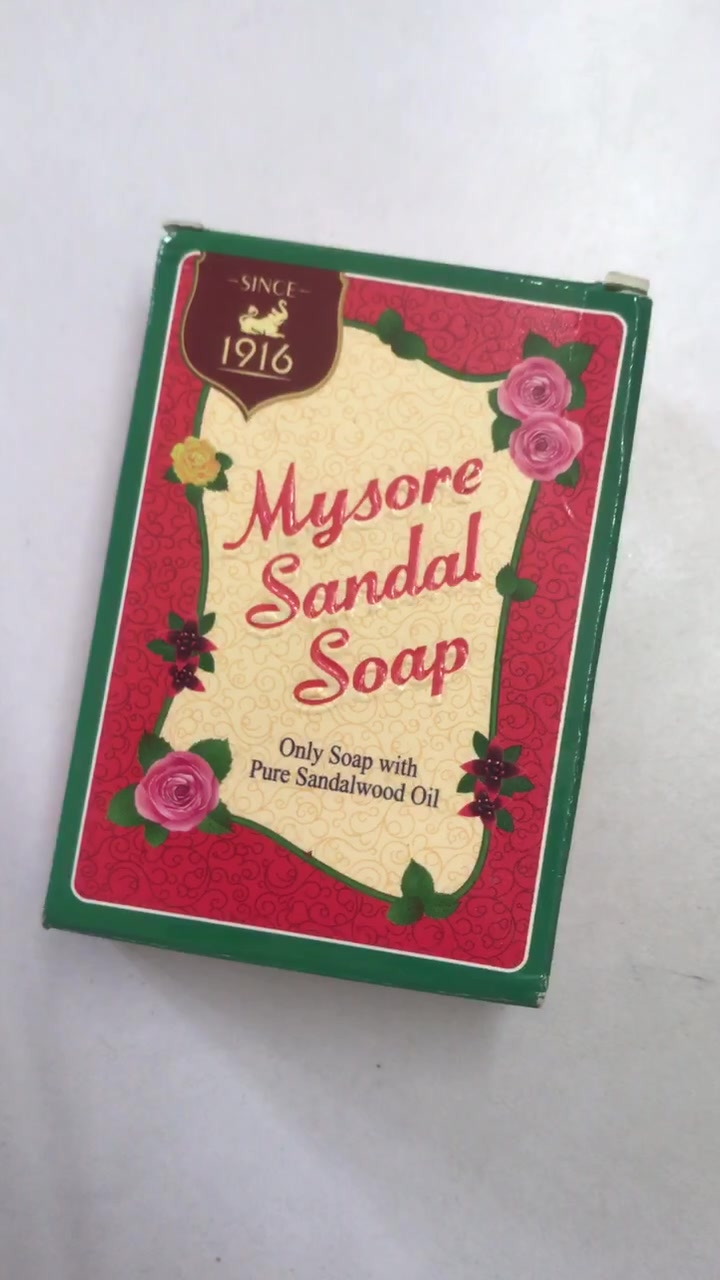mysore sandal soap: (41, 223, 655, 1009)
